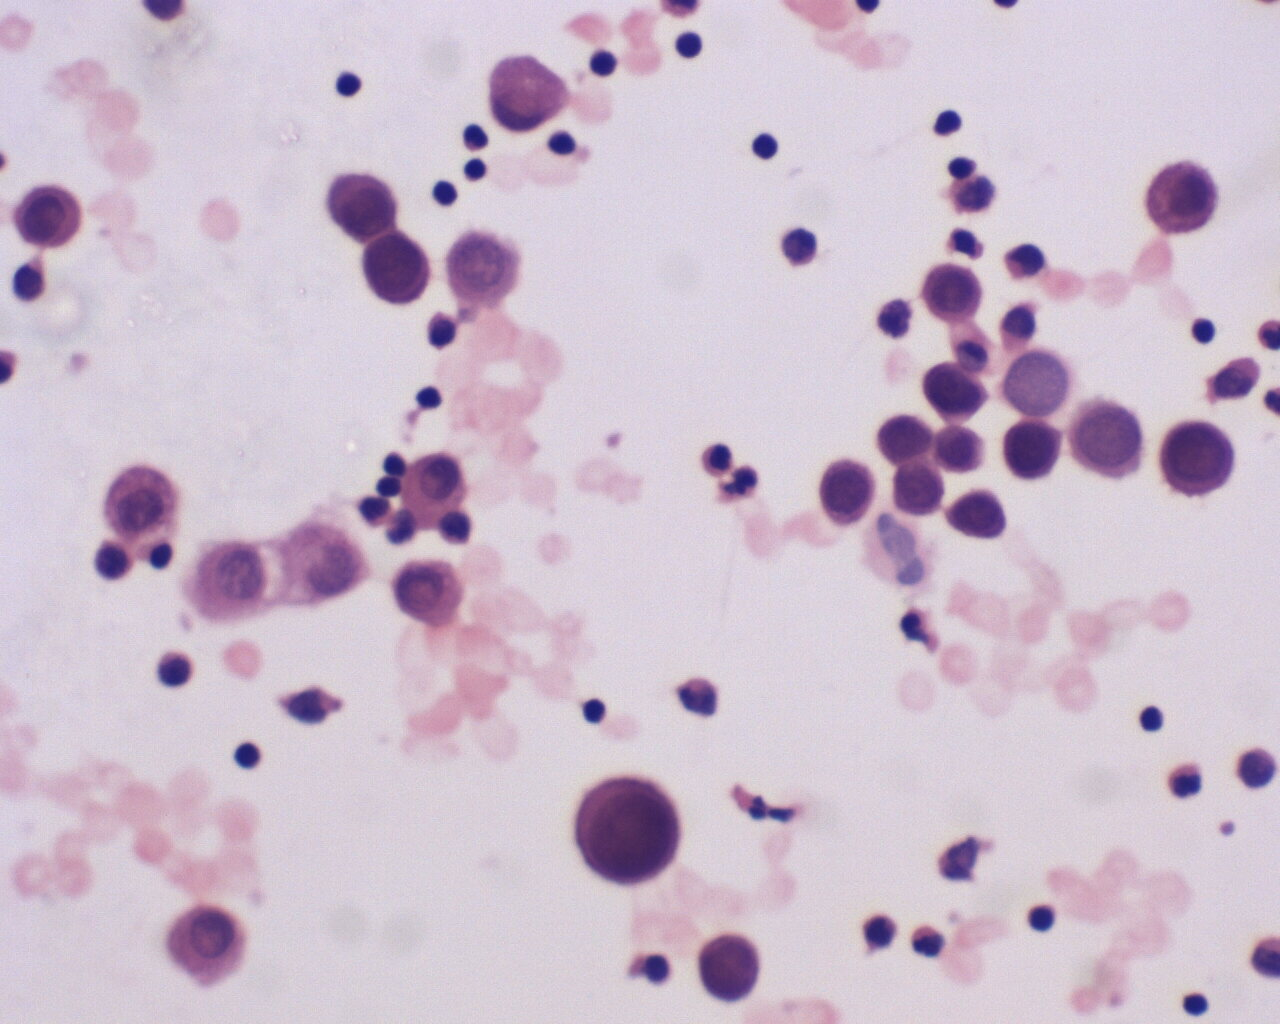ab: (574, 769, 689, 892), (440, 226, 533, 310), (1156, 415, 1235, 506), (360, 229, 436, 309), (326, 169, 408, 243), (695, 929, 771, 1007), (7, 182, 91, 253), (1071, 393, 1141, 478), (815, 453, 877, 530), (999, 418, 1066, 486), (914, 262, 985, 324), (945, 479, 1007, 546), (921, 359, 986, 422), (875, 408, 937, 466), (890, 462, 951, 520)
lymph: (582, 41, 626, 85), (578, 688, 618, 729), (1177, 985, 1221, 1021), (1131, 698, 1169, 739), (227, 736, 270, 772), (1025, 897, 1063, 937), (671, 23, 706, 65), (746, 126, 785, 163), (333, 68, 372, 104), (545, 126, 587, 160)
meso: (160, 899, 256, 992), (1139, 152, 1224, 240), (95, 464, 183, 544), (393, 557, 475, 632), (398, 449, 468, 529)
